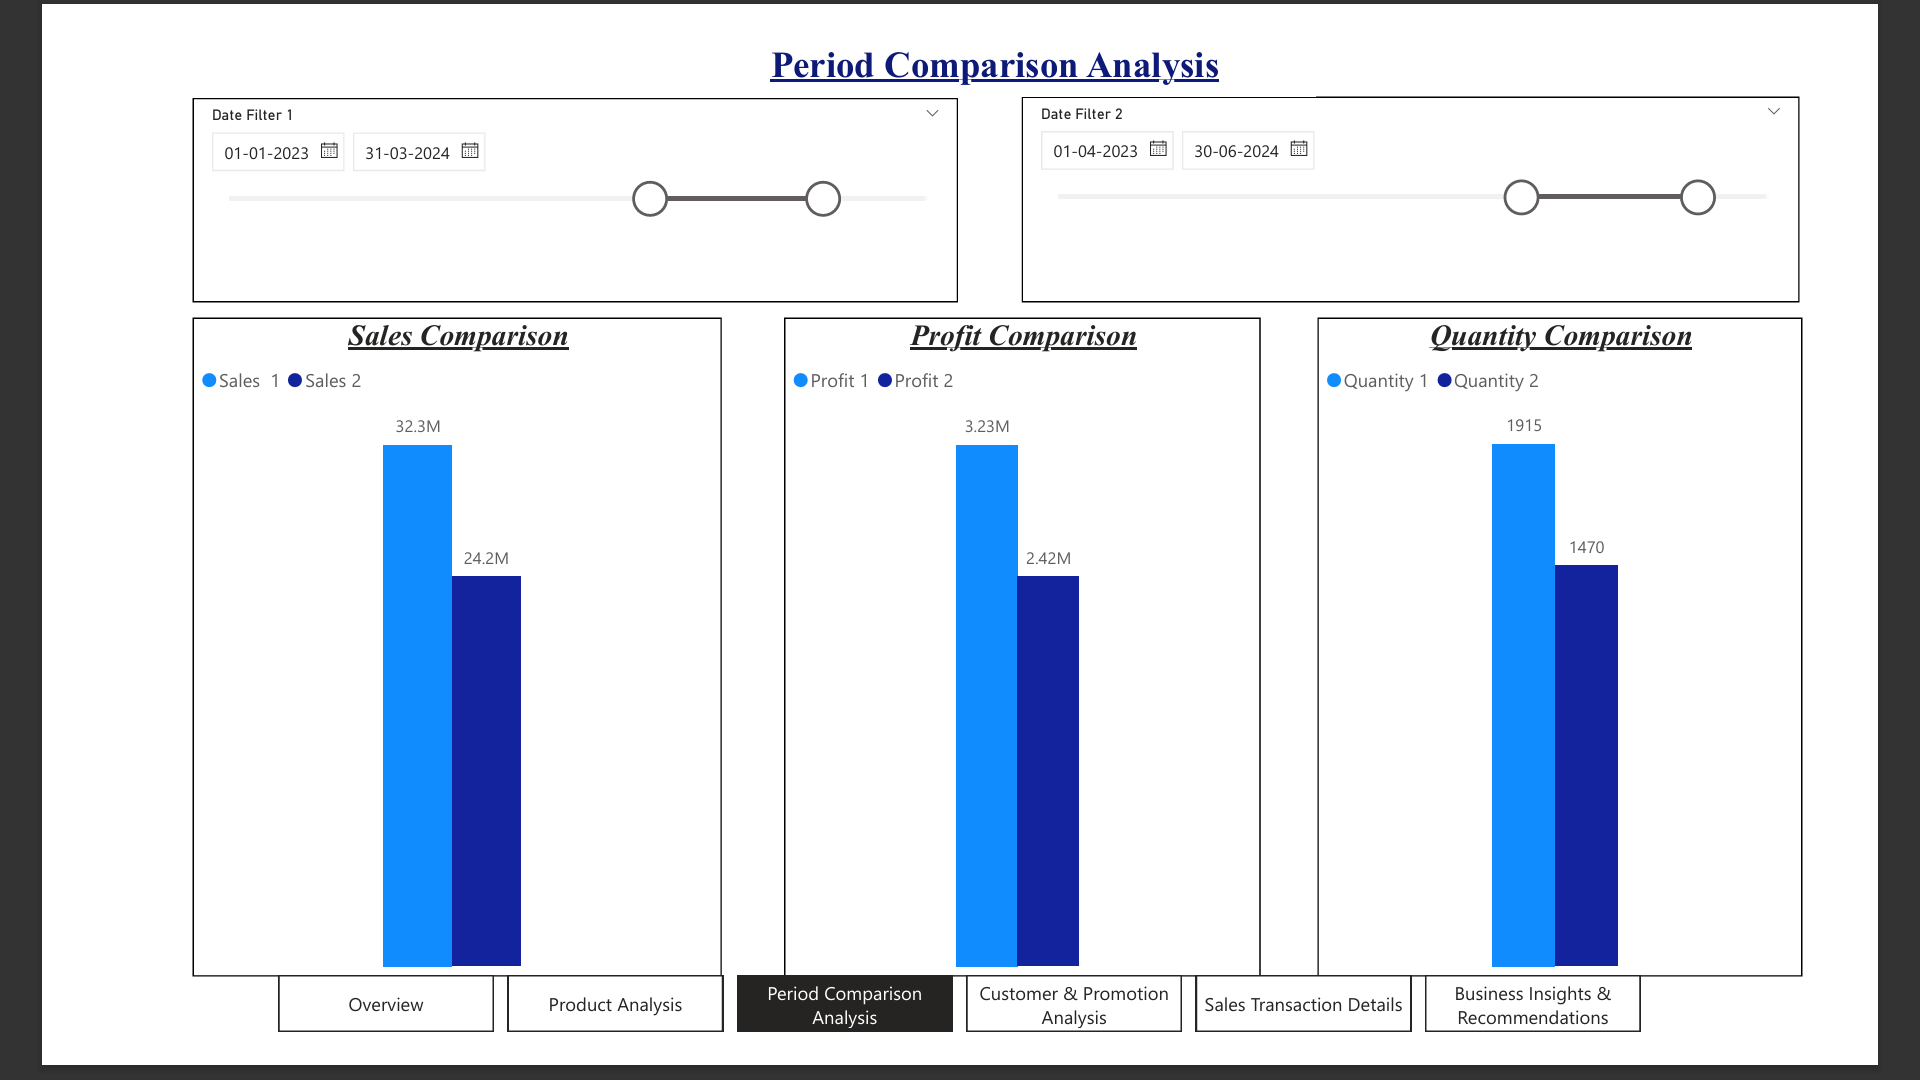

This screenshot's page, from the dashboard's own definition file:
{"tool":"powerbi","page":{"name":"Period Comparison Analysis","canvas":[1280,720],"ordinal":2},"visuals":[{"type":"slicer","fields":{"Values":["Date Table 2.Date"]},"box":[685,43.3,563.3,148.3],"z":0},{"type":"slicer","fields":{"Values":["Date Table 1.Date"]},"box":[85.1,43.9,554.4,148.2],"z":1000},{"type":"clusteredColumnChart","title":"Sales Comparison","fields":{"Y":["Sum(Fact Table.Net Sales  )","KPI Measures.Net Sales"]},"box":[85,203.3,383.3,476.7],"z":2000},{"type":"clusteredColumnChart","title":"Quantity Comparison","fields":{"Y":["Sum(Fact Table.Units Sold)","Measure Table.Quantity Sold"]},"box":[898.8,203.5,351.2,476.7],"z":3000},{"type":"clusteredColumnChart","title":"Profit Comparison","fields":{"Y":["Sum(Fact Table.Profit)","Measure Table.Total Profit"]},"box":[512.8,203.5,345.3,476.7],"z":4000},{"type":"pageNavigator","box":[146.8,679.2,989.4,41.2],"z":5000},{"type":"textbox","box":[433.3,0,465,43.3],"z":6000}]}

Visuals, with their boxes in screenshot pixels (x1, y1, x2, y2), scaled from the page's 1280x720 canvas onto the 1920x1080 screenshot:
slicer - Date Table 2.Date: x1=1028 y1=65 x2=1872 y2=287
slicer - Date Table 1.Date: x1=128 y1=66 x2=959 y2=288
"Sales Comparison" clusteredColumnChart: x1=128 y1=305 x2=702 y2=1020
"Quantity Comparison" clusteredColumnChart: x1=1348 y1=305 x2=1875 y2=1020
"Profit Comparison" clusteredColumnChart: x1=769 y1=305 x2=1287 y2=1020
pageNavigator: x1=220 y1=1019 x2=1704 y2=1079
textbox: x1=650 y1=0 x2=1347 y2=65
